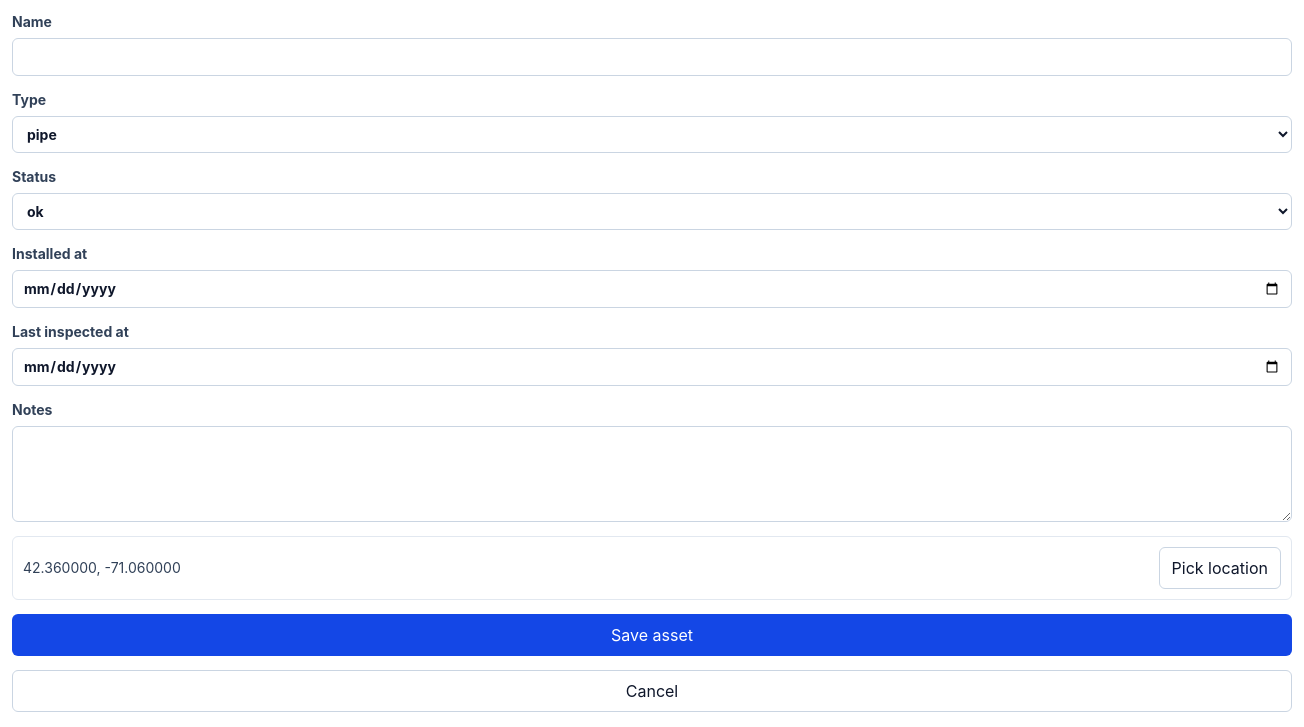
Test: AssetForm › blocks submit when installed date is empty
Type "Sensor S-0001" into the field labelled "Name" at (652, 57), box [12,38,1292,76]
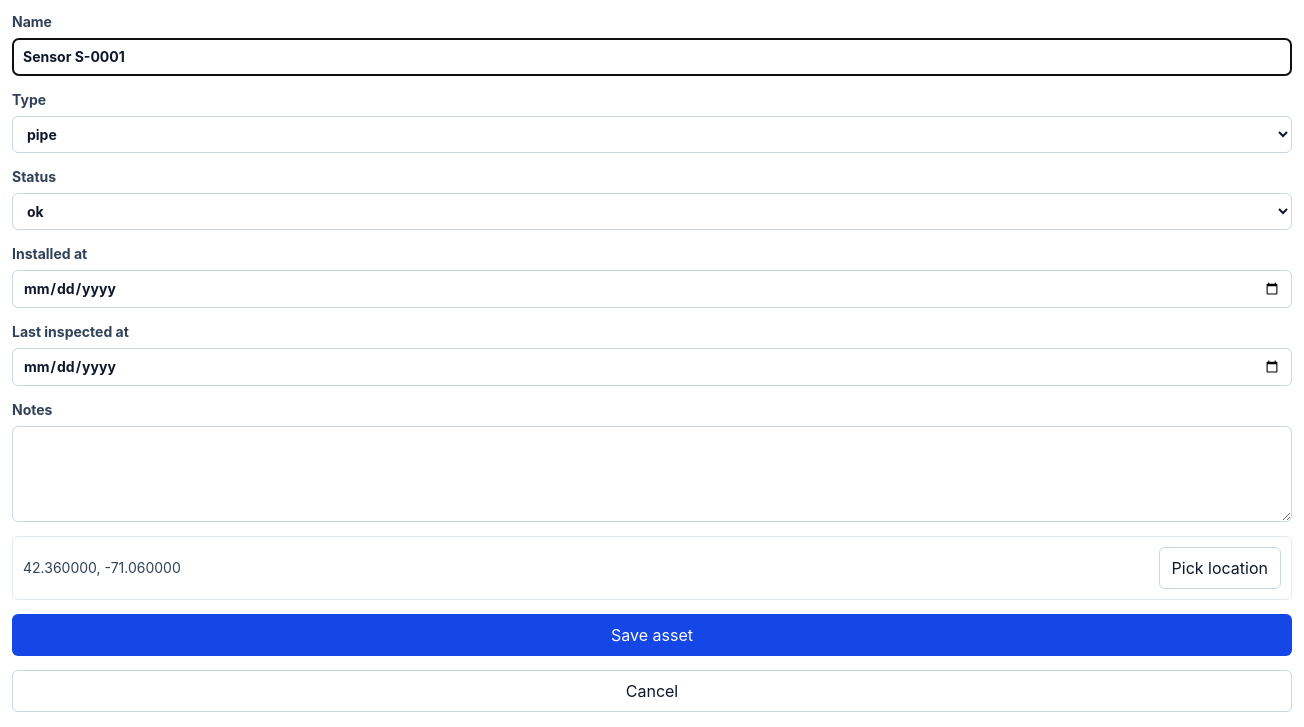
Click the button "Save asset" at (652, 635), box [12,614,1292,656]
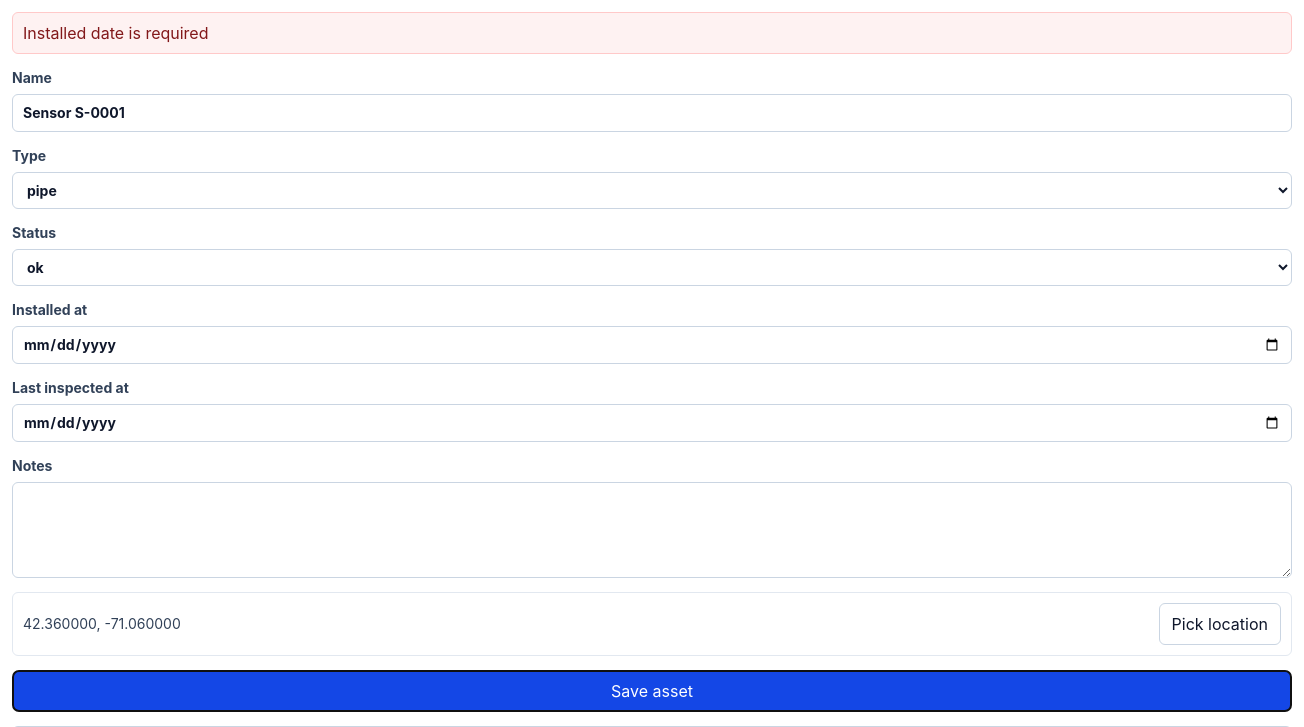
Now the text "Installed date is required" is shown, box [12,12,1292,54]
